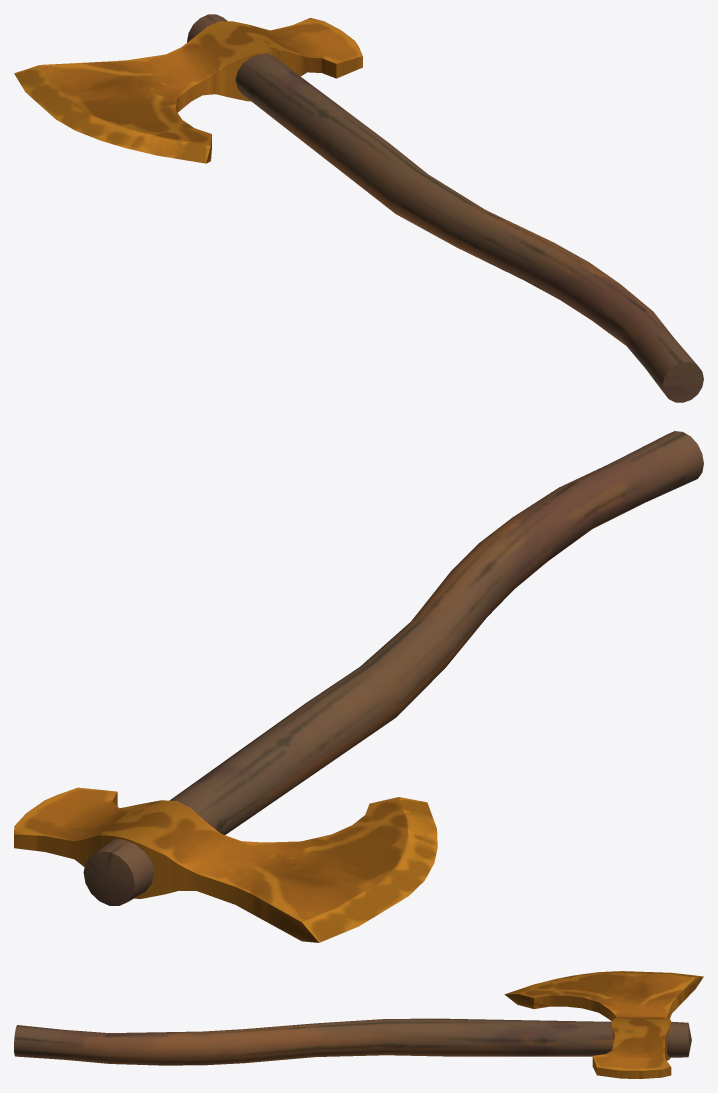
File: fp-axe-bronze-lod1.glb
The picture shows the model from 3 angles, top to bottom: view 1: azimuth 30°, elevation 25°; view 2: azimuth 150°, elevation 25°; view 3: azimuth 270°, elevation 25°; orthographic projection. The views are drawn at different scales.
Parts seen in each view (by area): view 1: WeaponMesh_fp-axe-bronze_Axe_Bronze; view 2: WeaponMesh_fp-axe-bronze_Axe_Bronze; view 3: WeaponMesh_fp-axe-bronze_Axe_Bronze.
Part boxes in pixels (x1,y1,x2,y2): WeaponMesh_fp-axe-bronze_Axe_Bronze: (14, 14, 703, 402); WeaponMesh_fp-axe-bronze_Axe_Bronze: (14, 431, 703, 942); WeaponMesh_fp-axe-bronze_Axe_Bronze: (14, 971, 703, 1078).
Size of the model in its own units: 0.4452 by 0.0696 by 1.25.
Materials: 1 (1 with a texture image).
